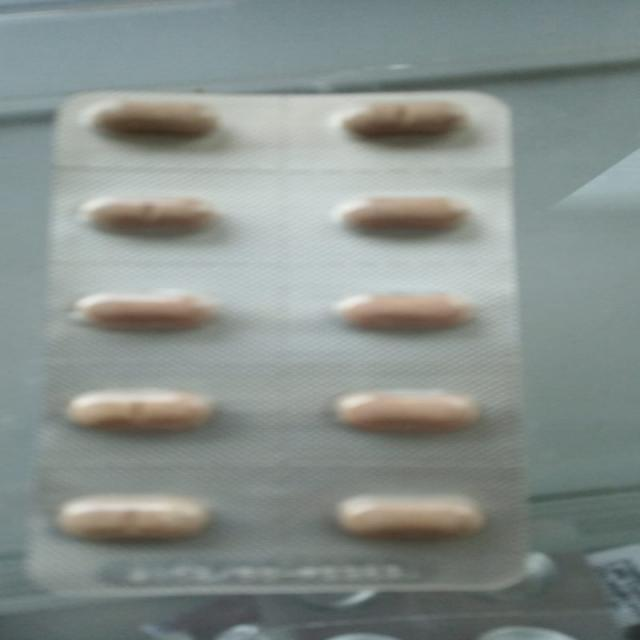Pill: (315, 276, 520, 341), (304, 380, 499, 441), (320, 486, 507, 546), (62, 184, 245, 245), (51, 379, 221, 440), (40, 491, 216, 548), (53, 286, 235, 338), (312, 192, 483, 241), (80, 92, 232, 145), (325, 99, 472, 148)
